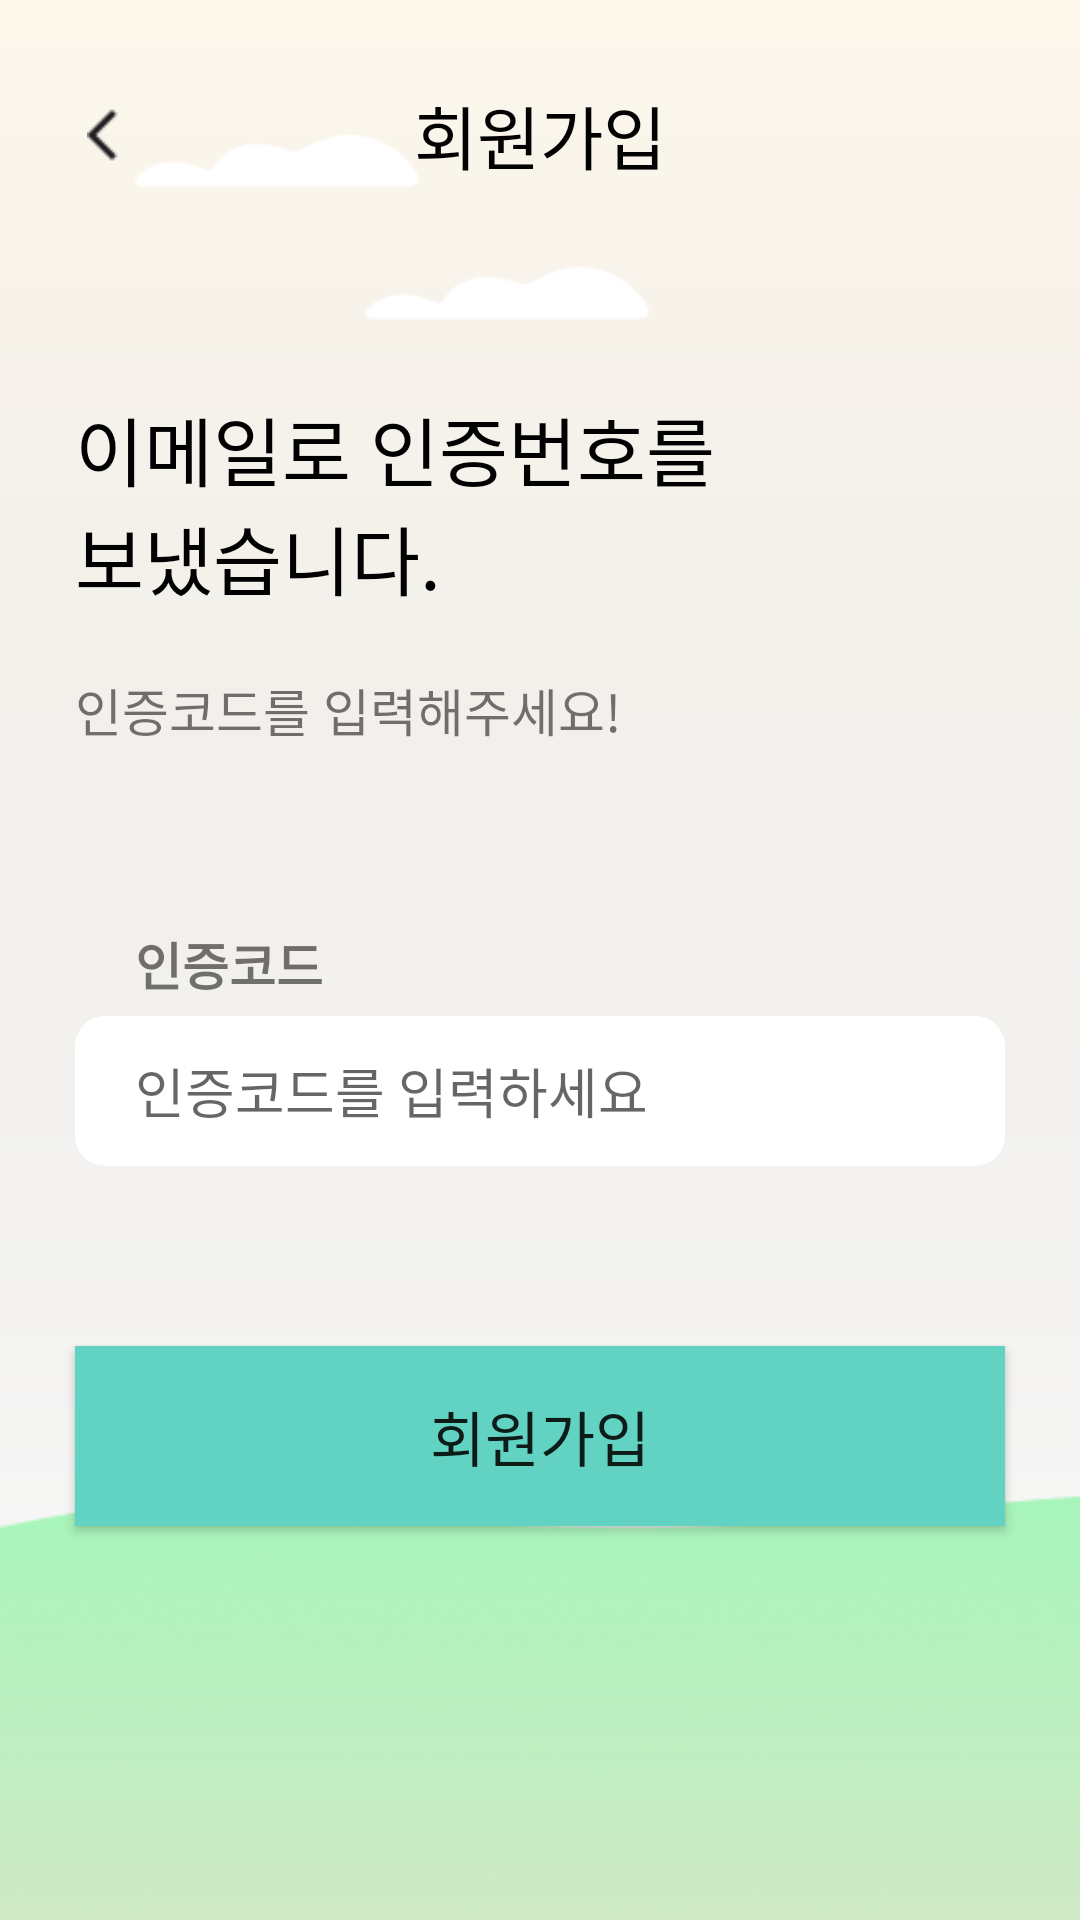

Screen size 1080x1920. Icon name, then its box in pixels as (x1, y1, x2, y2):
arrow back: (87, 109, 118, 161)
